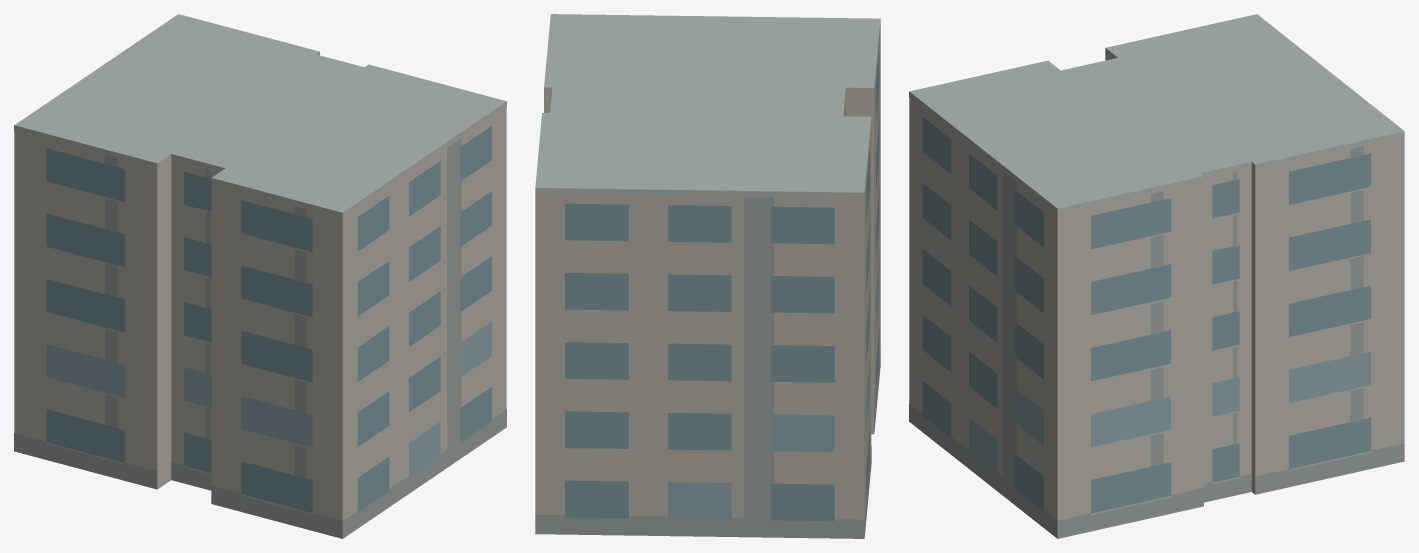
The model's file is survey-upis-33030669.glb.
3 renders of one model, left to right at view 1: azimuth 30°, elevation 25°; view 2: azimuth 150°, elevation 25°; view 3: azimuth 270°, elevation 25°, orthographic. The views are drawn at different scales.
Parts seen in each view (by area): view 1: survey-upis-33030669.tmp; view 2: survey-upis-33030669.tmp; view 3: survey-upis-33030669.tmp.
Boxes of the visible parts, x1=… form: survey-upis-33030669.tmp: x1=14, y1=14, x2=506, y2=538; survey-upis-33030669.tmp: x1=535, y1=14, x2=880, y2=538; survey-upis-33030669.tmp: x1=909, y1=14, x2=1404, y2=538.
Bounding box in the file's own units: 16.76 × 13.25 × 18.03.
